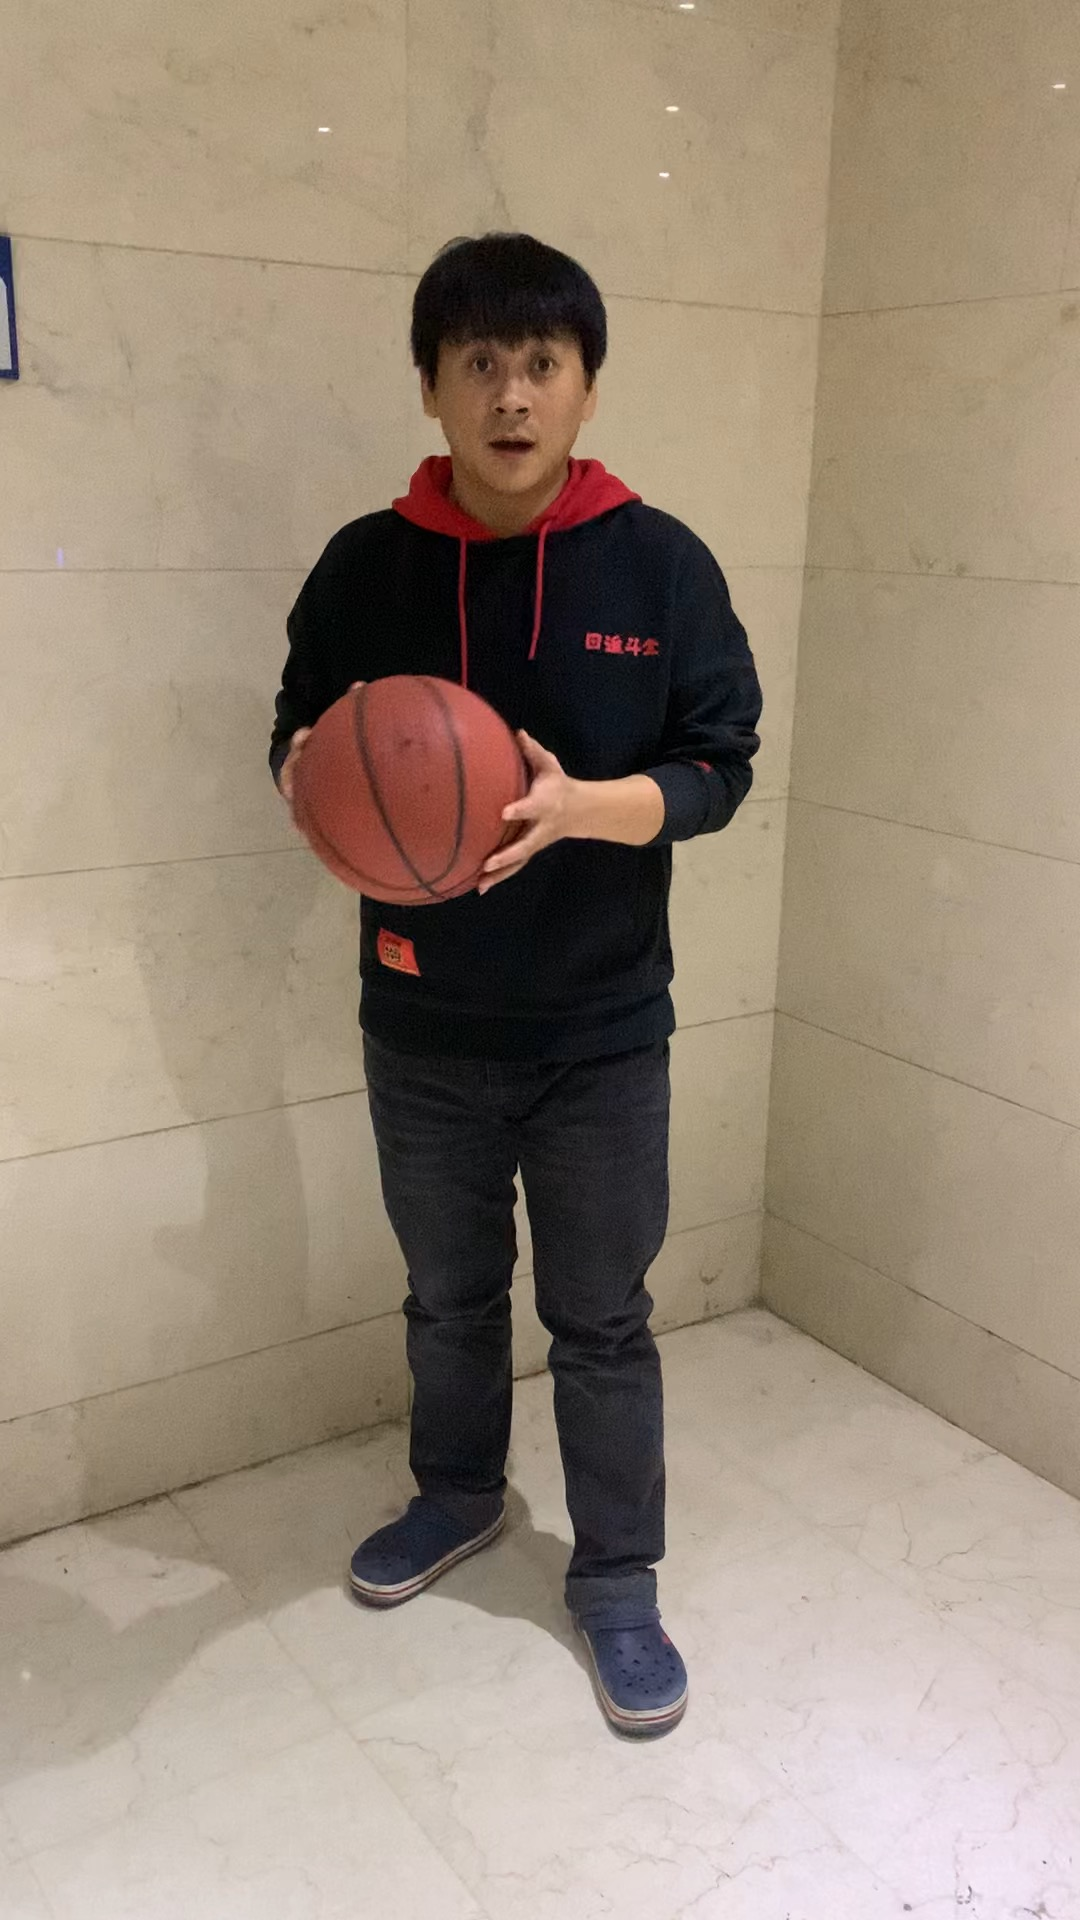ball: (291, 678, 522, 898)
